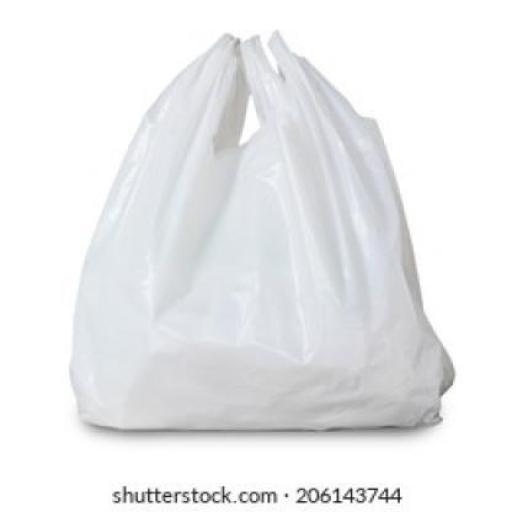plastic bag: (60, 30, 467, 436)
